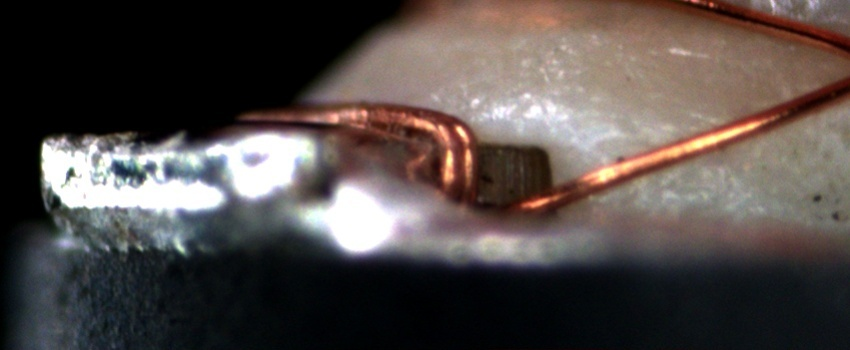DL: (596, 124, 742, 174)
TE: (256, 96, 491, 222)
